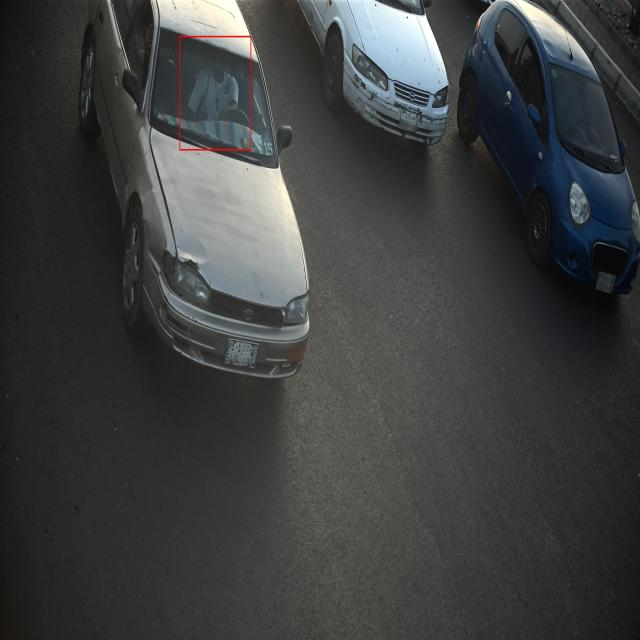windshield: (146, 23, 278, 179), (545, 58, 626, 173)
